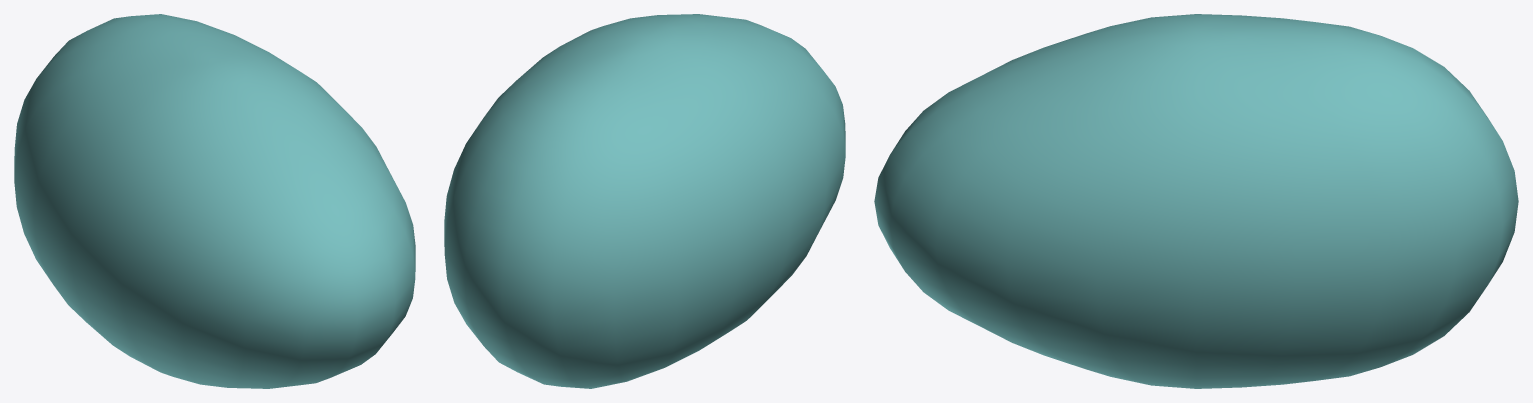
The model's file is Single_Arrow.gltf.
3 views of the same model, side by side, from view 1: azimuth 30°, elevation 25°; view 2: azimuth 150°, elevation 25°; view 3: azimuth 270°, elevation 25° (orthographic). The views are drawn at different scales.
Parts seen in each view (by area): view 1: Arrow_Egg_Shape_Grp; view 2: Arrow_Egg_Shape_Grp; view 3: Arrow_Egg_Shape_Grp.
Part boxes in pixels (<box>): Arrow_Egg_Shape_Grp: <box>14,14,415,388</box>; Arrow_Egg_Shape_Grp: <box>444,14,845,388</box>; Arrow_Egg_Shape_Grp: <box>874,14,1518,388</box>.
Bounding box in the file's own units: 2 × 2 × 3.43.
